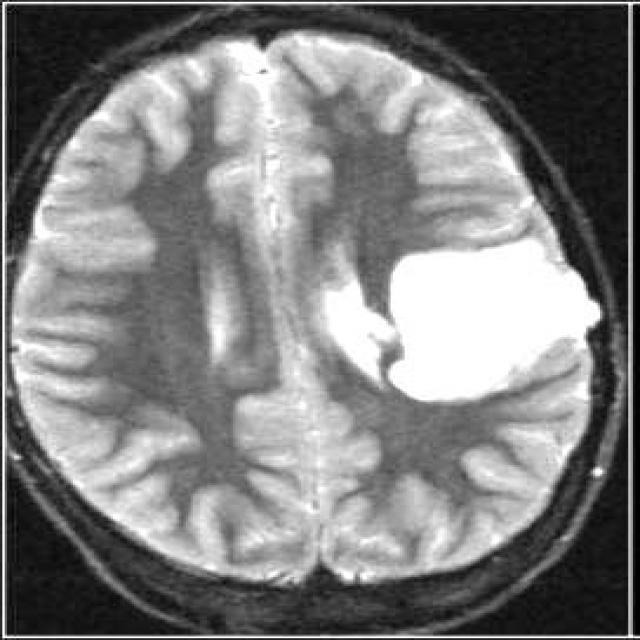tumor: (384, 240, 598, 407)
